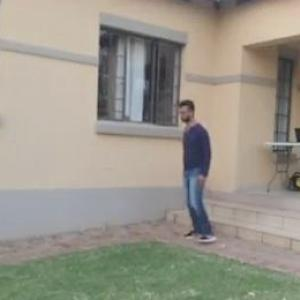follow: (169, 98, 209, 235)
